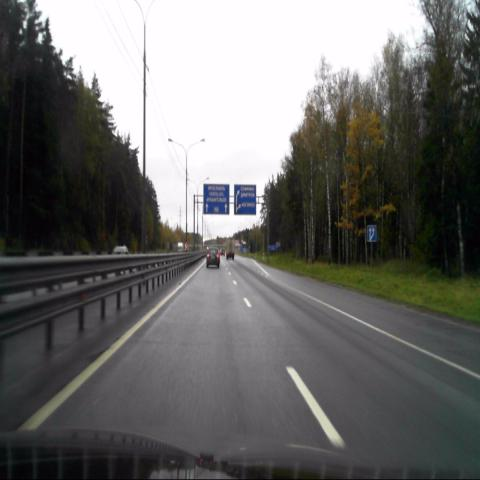5_15_3: (367, 225, 376, 242)
